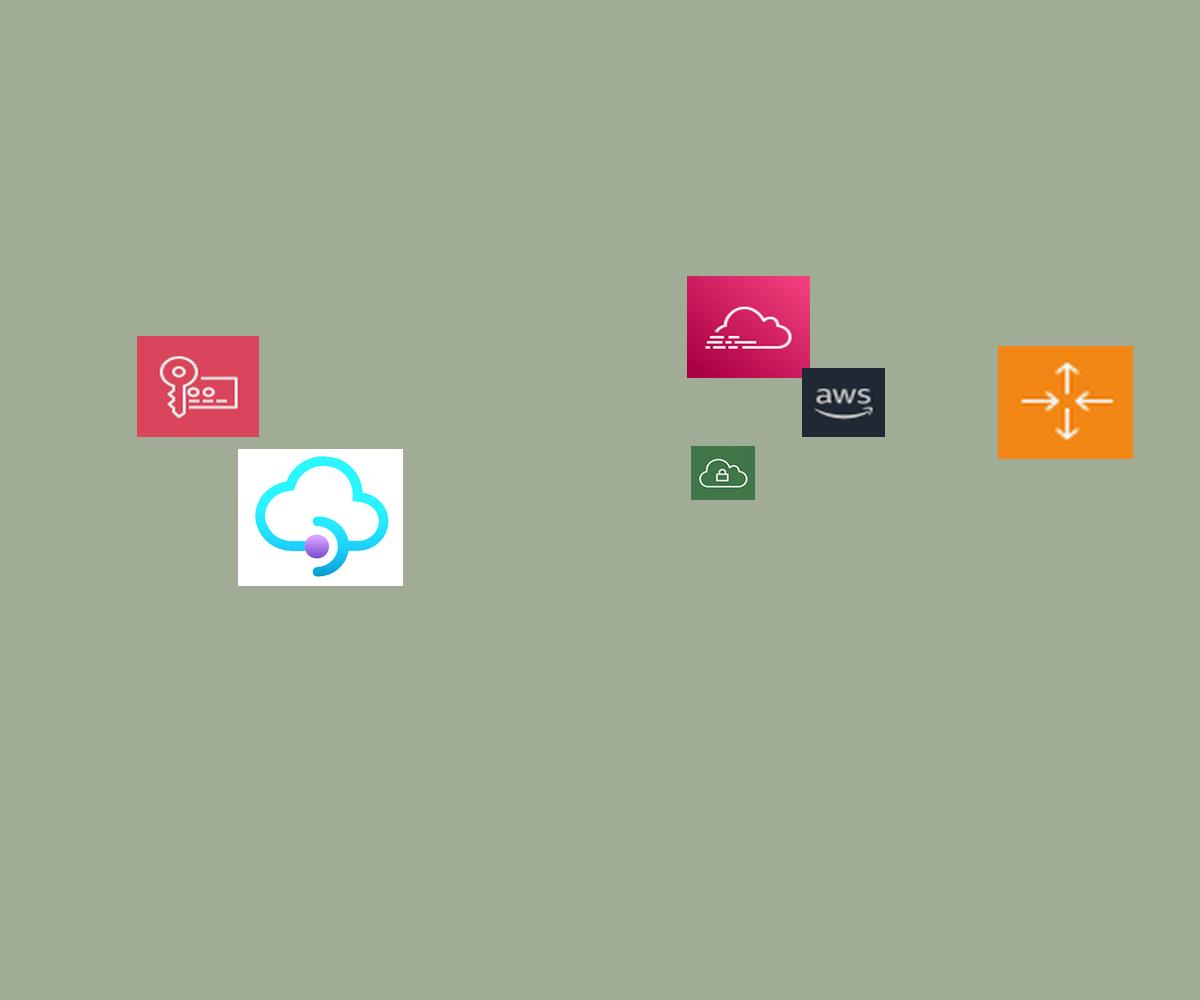AWS-Cloud-logo: (802, 368, 885, 437)
AWS-CloudTrail: (687, 276, 810, 378)
AWS-Key-Management-Service: (137, 336, 259, 437)
AWS-Private_vpc: (691, 446, 755, 500)
AWS-Scaling-group: (998, 346, 1133, 459)
Azure_api_gateway: (238, 449, 403, 586)
